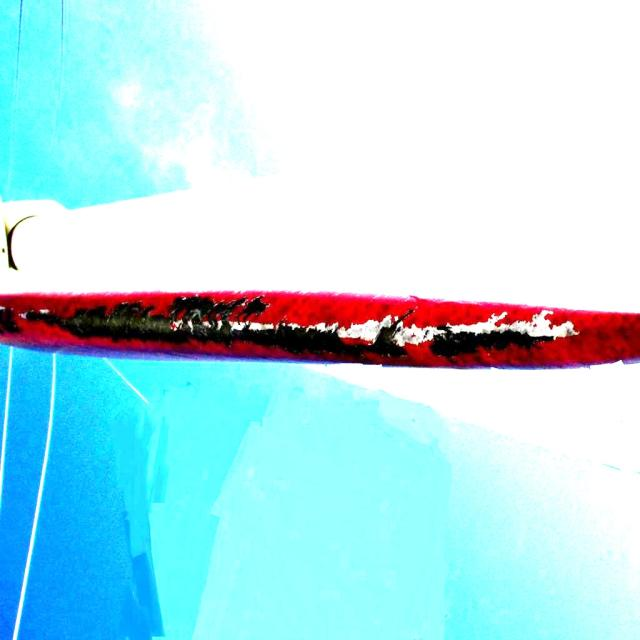corrosion: (8, 304, 576, 366)
